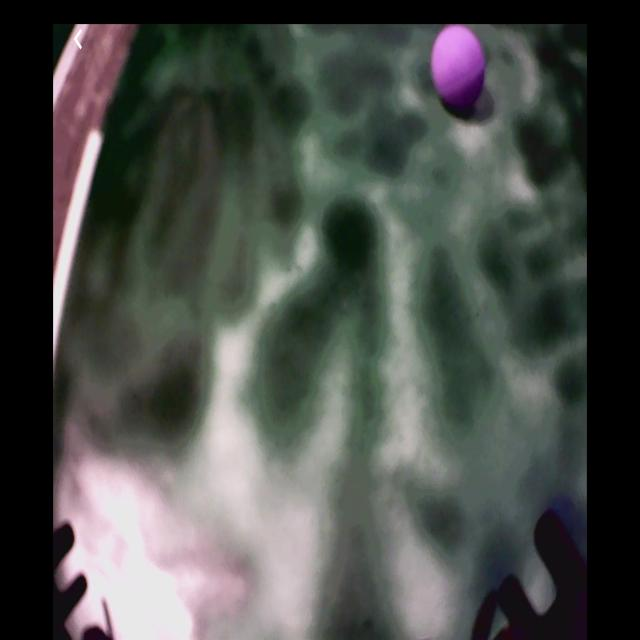ball: (431, 27, 487, 114)
